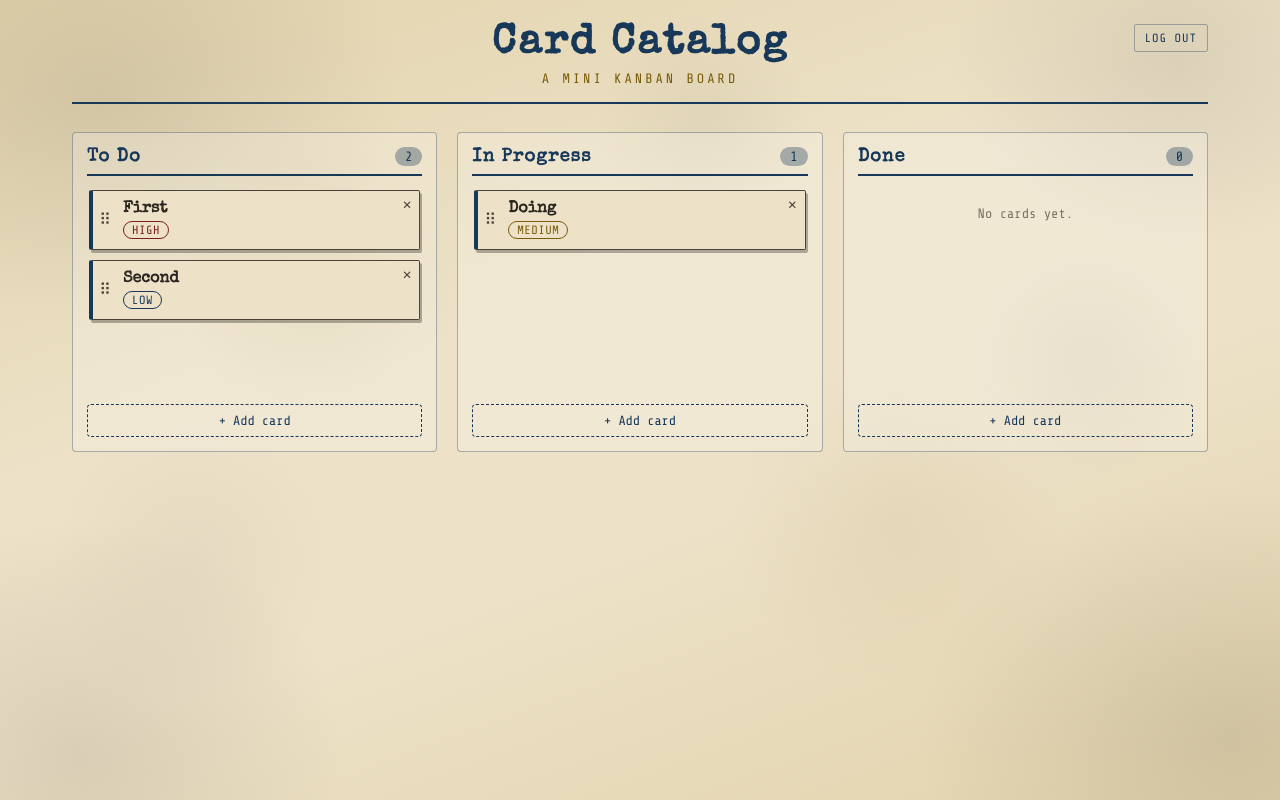
Test: App › returns to the login screen with a message when the session expires
Expected: the heading "Doing" is shown, [508,201,556,217]
Click the button named "Delete card".
click(792, 206)  # box [784,195,801,217]
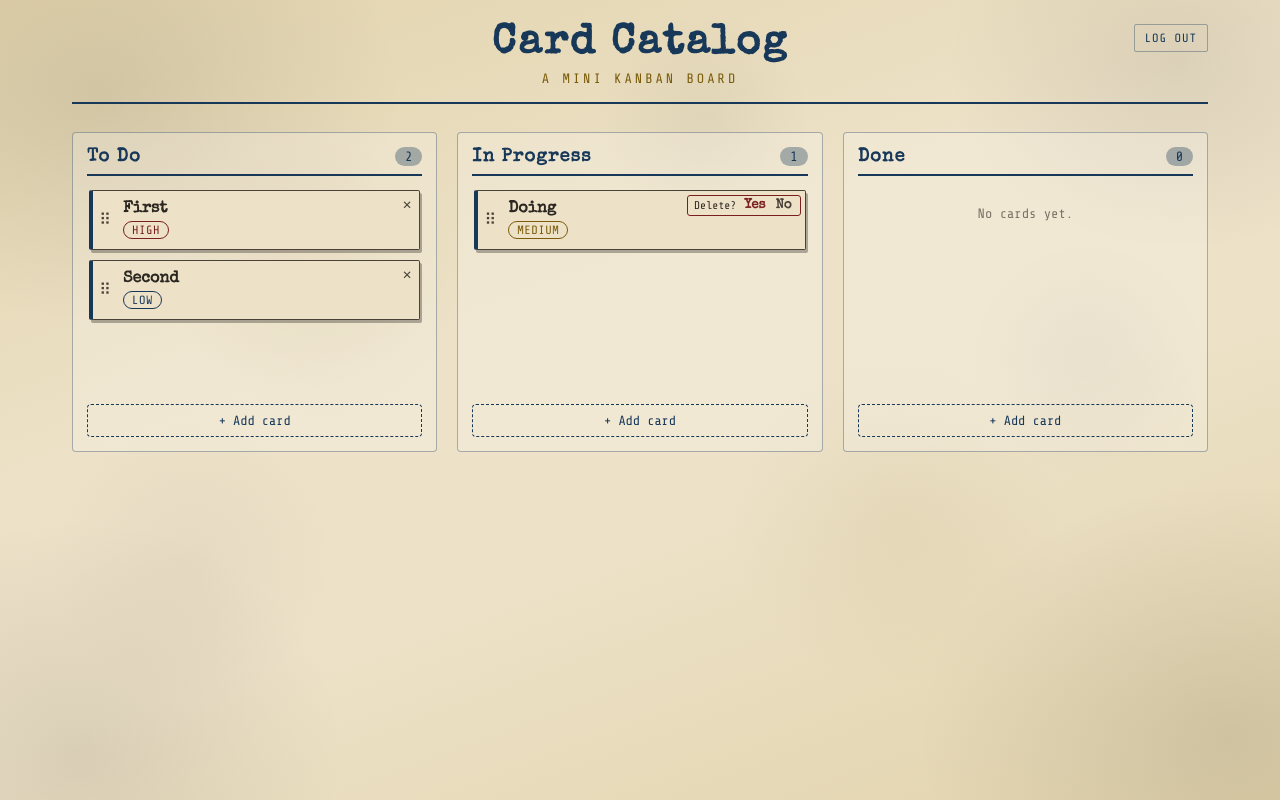
Click the button "Yes".
click(755, 206)  # box [742,199,768,212]
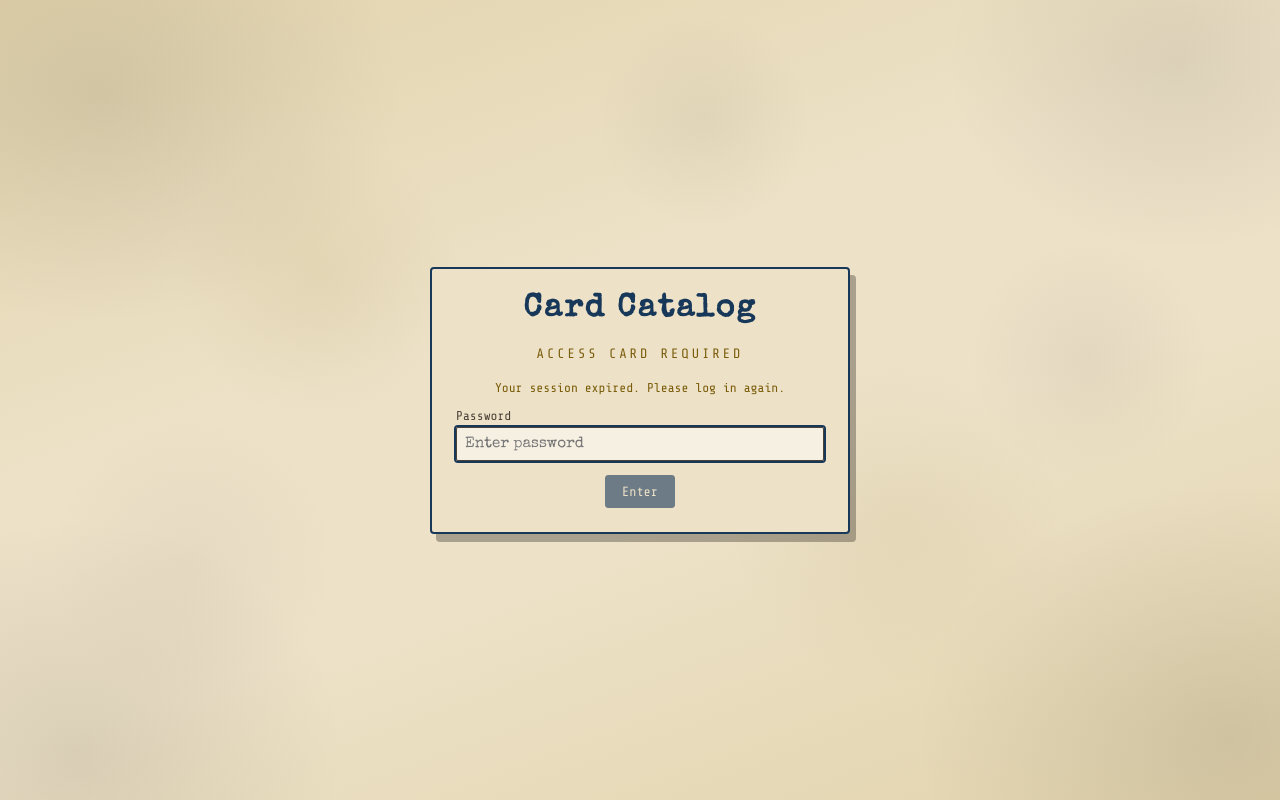
Expected: the text "Your session expired. Please log in again." is shown, [495,380,785,394]
Expected: the password field labelled "Password" is shown, [456,426,824,460]
